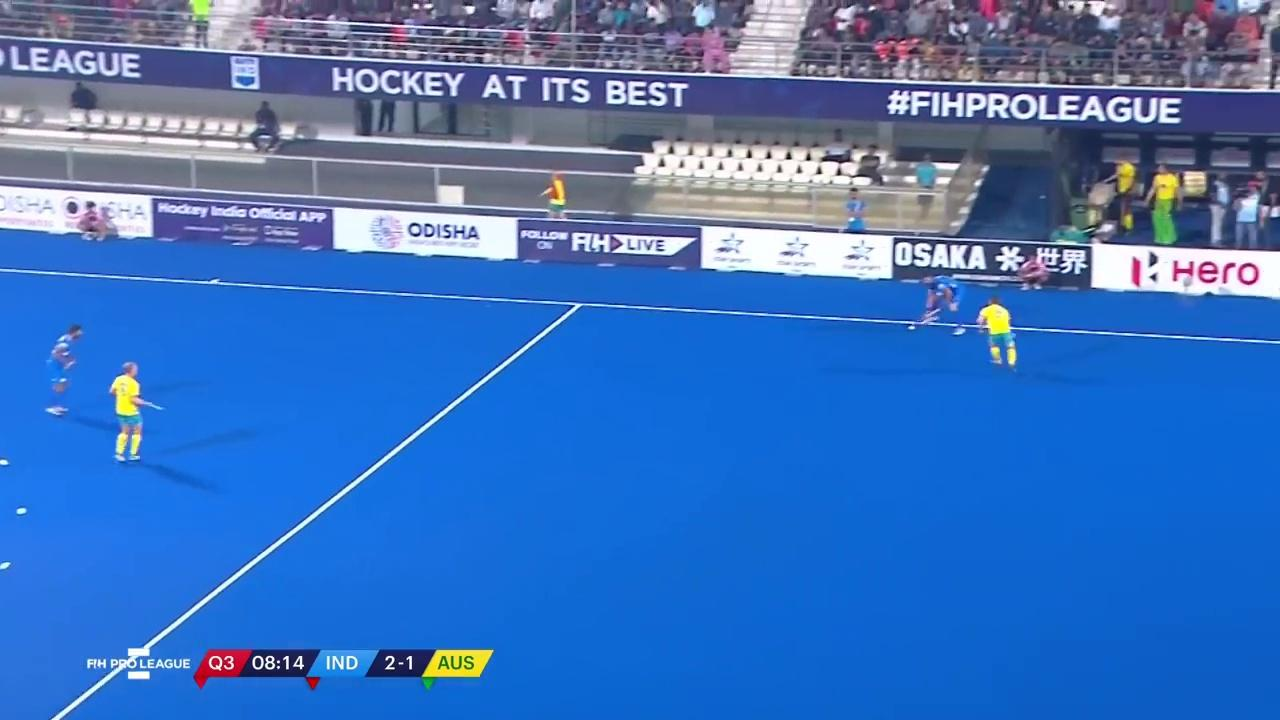ball: (901, 318, 924, 337)
